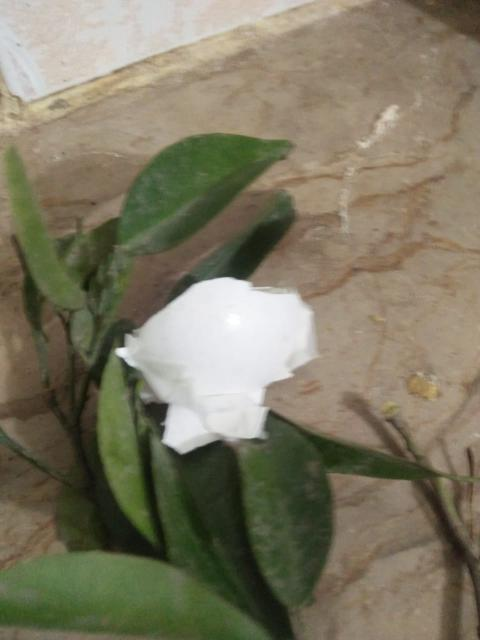Roto: (119, 278, 318, 452)
